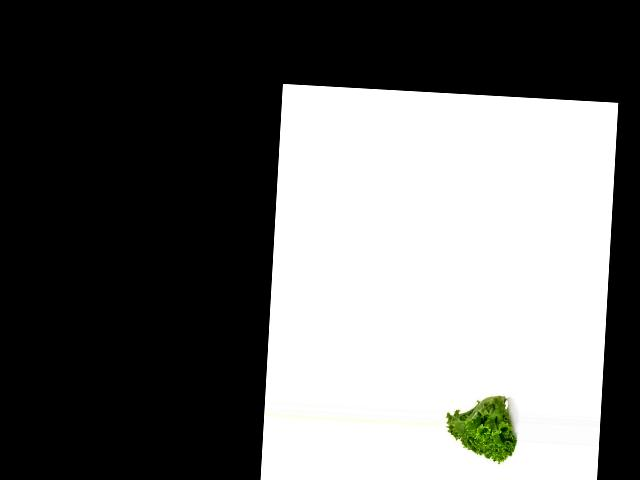lettuce: (441, 388, 519, 468)
